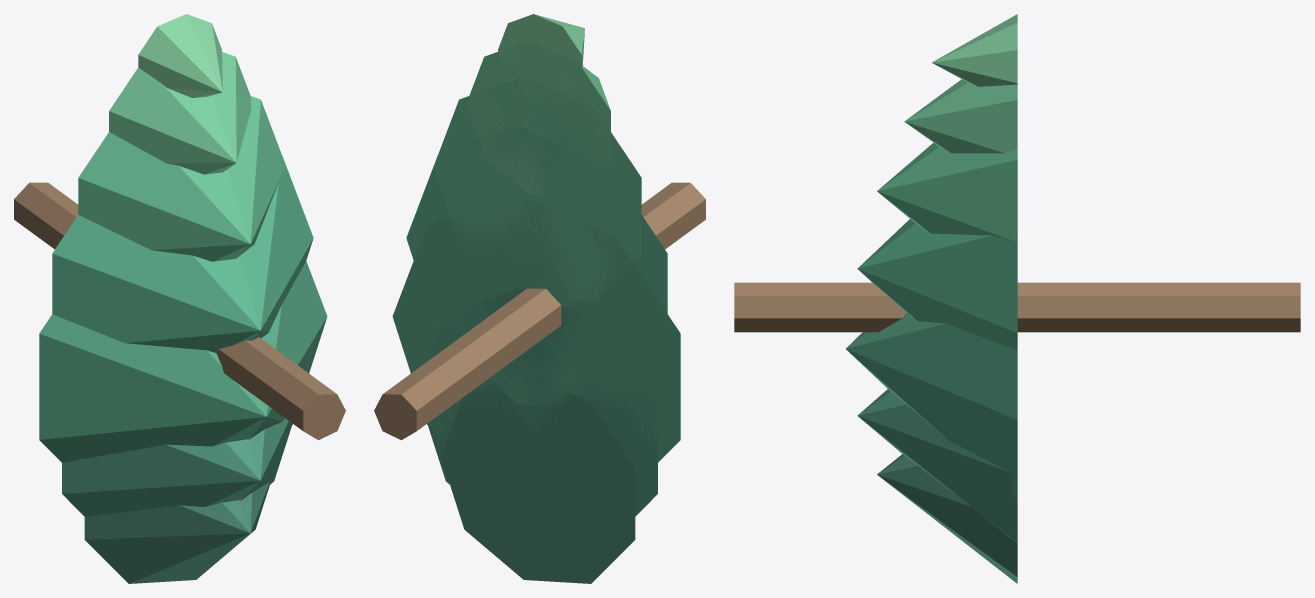
Rendered from vox-tree-conifer.glb.
3 views of the same model, side by side, from view 1: azimuth 30°, elevation 25°; view 2: azimuth 150°, elevation 25°; view 3: azimuth 270°, elevation 25° (orthographic). The views are drawn at different scales.
Visible parts, largest first — view 1: foliage_2, foliage_3, foliage_4, foliage_1, foliage_0, foliage_5, trunk, foliage_6; view 2: foliage_2, foliage_4, foliage_0, foliage_1, foliage_3, trunk, foliage_5, foliage_6; view 3: trunk, foliage_2, foliage_3, foliage_4, foliage_1, foliage_5, foliage_0, foliage_6.
Boxes of the visible parts, x1,y1,x2,y2 form: foliage_2: (39, 261, 327, 462); foliage_3: (52, 155, 313, 352); foliage_4: (78, 96, 285, 261); foliage_1: (62, 418, 291, 516); foliage_0: (84, 481, 269, 583); foliage_5: (109, 52, 251, 174); trunk: (14, 182, 345, 440); foliage_6: (138, 14, 222, 97); foliage_2: (392, 194, 680, 462); foliage_4: (434, 77, 641, 301); foliage_0: (441, 381, 635, 583); foliage_1: (427, 287, 657, 540); foliage_3: (406, 126, 667, 406); trunk: (374, 182, 705, 440); foliage_5: (467, 41, 610, 194); foliage_6: (498, 14, 584, 104); trunk: (734, 282, 1300, 332); foliage_2: (846, 312, 1017, 500); foliage_3: (857, 219, 1017, 350); foliage_4: (877, 143, 1017, 241); foliage_1: (857, 389, 1017, 543); foliage_5: (904, 79, 1017, 153); foliage_0: (877, 454, 1017, 583); foliage_6: (932, 14, 1017, 86).
Size of the model in its own units: 1.67 by 3.14 by 2.9.
